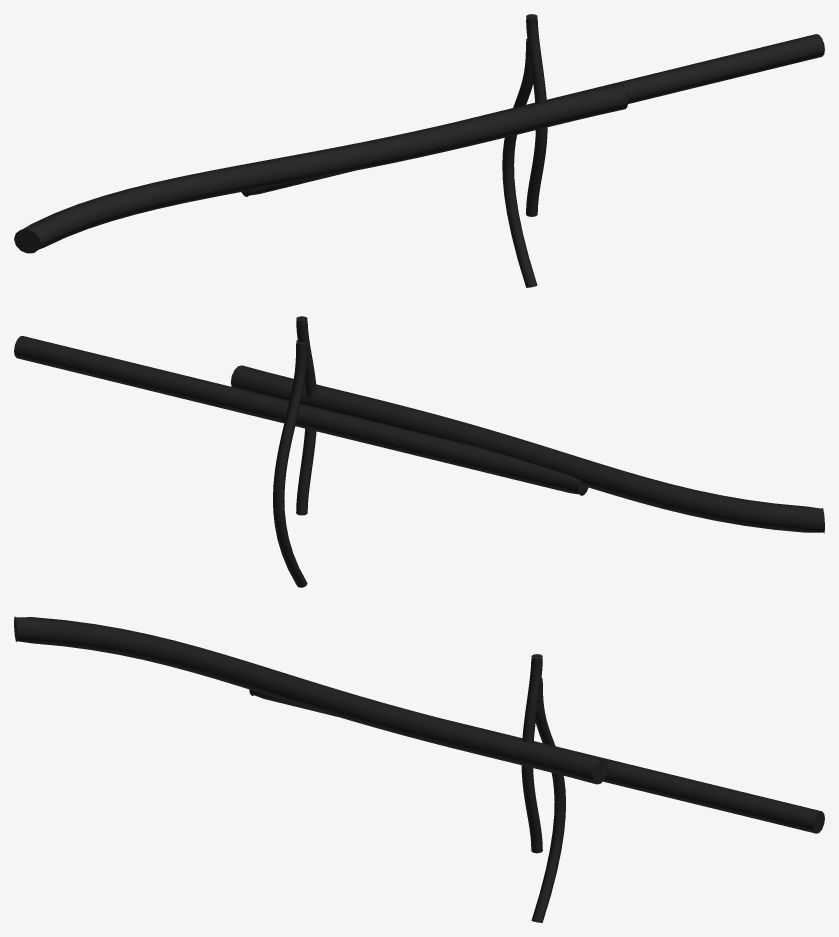
File: Pipe-1.fbx
3 renders of one model, top to bottom at view 1: azimuth 30°, elevation 25°; view 2: azimuth 150°, elevation 25°; view 3: azimuth 330°, elevation 25°, orthographic.
Visible parts, largest first — view 1: Pipe-1-5, Pipe-1-1, Pipe-1-2, Pipe-1-3; view 2: Pipe-1-5, Pipe-1-1, Pipe-1-2, Pipe-1-3; view 3: Pipe-1-5, Pipe-1-1, Pipe-1-2, Pipe-1-3.
Boxes of the visible parts, <box> form: Pipe-1-5: <box>14,83,628,253</box>; Pipe-1-1: <box>241,34,824,196</box>; Pipe-1-2: <box>502,38,537,287</box>; Pipe-1-3: <box>526,14,547,216</box>; Pipe-1-5: <box>230,365,824,533</box>; Pipe-1-1: <box>14,336,588,495</box>; Pipe-1-2: <box>273,340,307,587</box>; Pipe-1-3: <box>296,316,316,515</box>; Pipe-1-5: <box>14,616,608,784</box>; Pipe-1-1: <box>249,689,824,833</box>; Pipe-1-2: <box>531,678,565,922</box>; Pipe-1-3: <box>521,654,542,853</box>.
Bounding box in the file's own units: 15.93 × 5.09 × 1.57.
